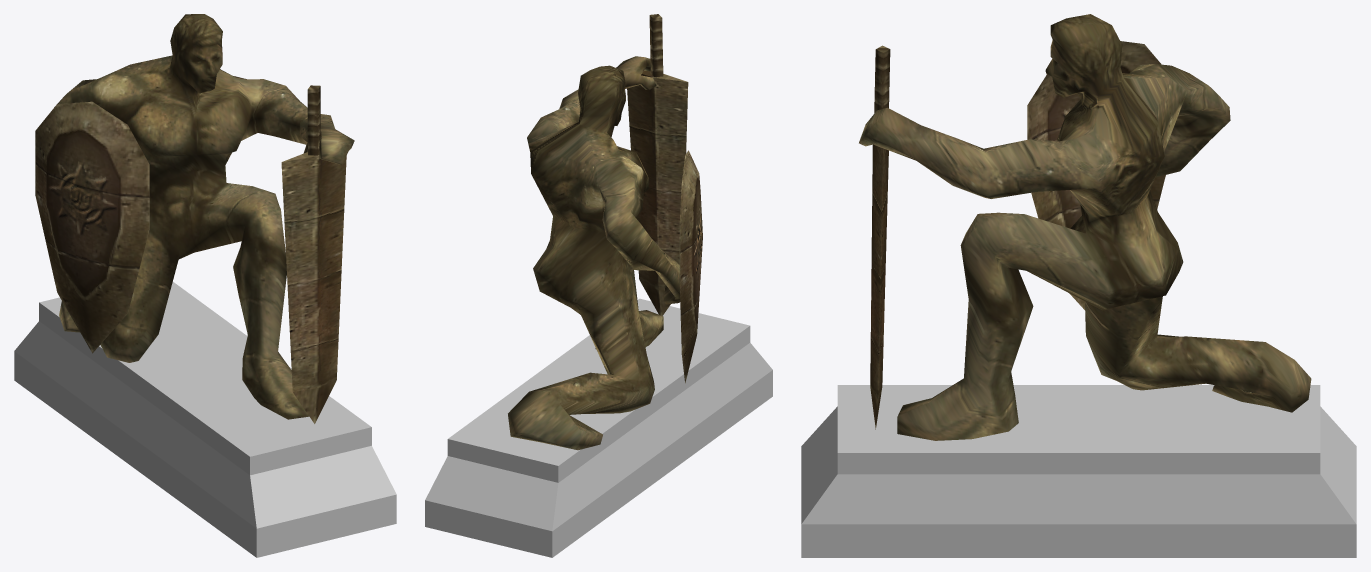
The model's file is gzc_wj_2.fbx.
3 renders of one model, left to right at view 1: azimuth 30°, elevation 25°; view 2: azimuth 150°, elevation 25°; view 3: azimuth 270°, elevation 25°, orthographic. The views are drawn at different scales.
Parts seen in each view (by area): view 1: gzc_wj_2; view 2: gzc_wj_2; view 3: gzc_wj_2.
Boxes of the visible parts, left/top/right/bottom form: gzc_wj_2: left=14, top=14, right=396, bottom=557; gzc_wj_2: left=425, top=14, right=772, bottom=557; gzc_wj_2: left=801, top=14, right=1356, bottom=557.
Size of the model in its own units: 512 by 996 by 1010.
